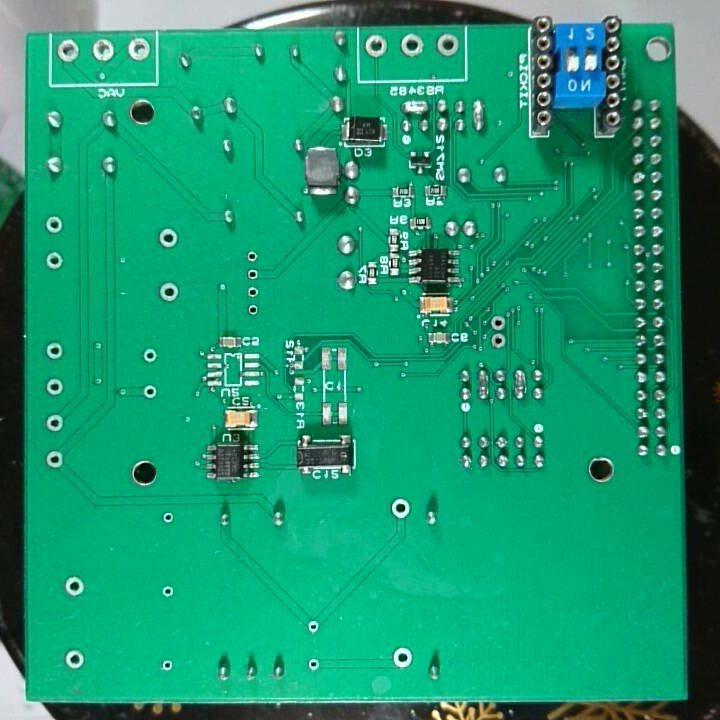F: (125, 35, 153, 63), (362, 32, 391, 59), (398, 32, 426, 58), (434, 32, 461, 58), (54, 38, 81, 63), (61, 647, 88, 672), (90, 37, 115, 63), (388, 495, 413, 521), (390, 644, 415, 670), (62, 572, 86, 598), (157, 225, 179, 252), (157, 279, 181, 303), (43, 249, 67, 272), (43, 376, 66, 398), (43, 412, 65, 435), (44, 449, 66, 471), (140, 345, 161, 368), (44, 213, 64, 237), (487, 331, 508, 352), (139, 381, 159, 403), (44, 341, 66, 360), (159, 507, 177, 529), (243, 248, 262, 267), (243, 266, 263, 284), (243, 283, 263, 301), (304, 618, 322, 638), (488, 314, 508, 331), (159, 582, 176, 601), (159, 656, 175, 675), (244, 301, 260, 318), (305, 656, 320, 674)
P: (511, 365, 528, 402), (399, 98, 431, 115), (475, 366, 491, 400), (471, 98, 487, 129)
